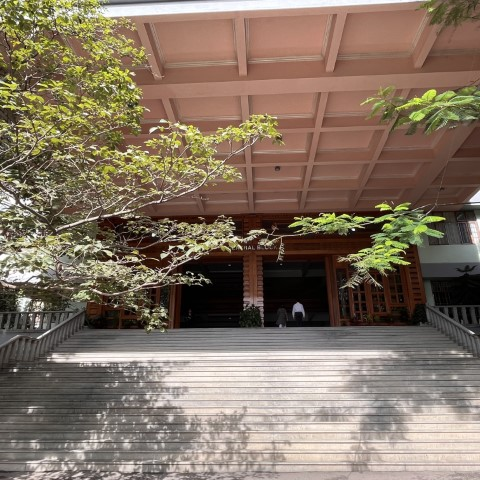Central Block: (65, 4, 480, 480)
